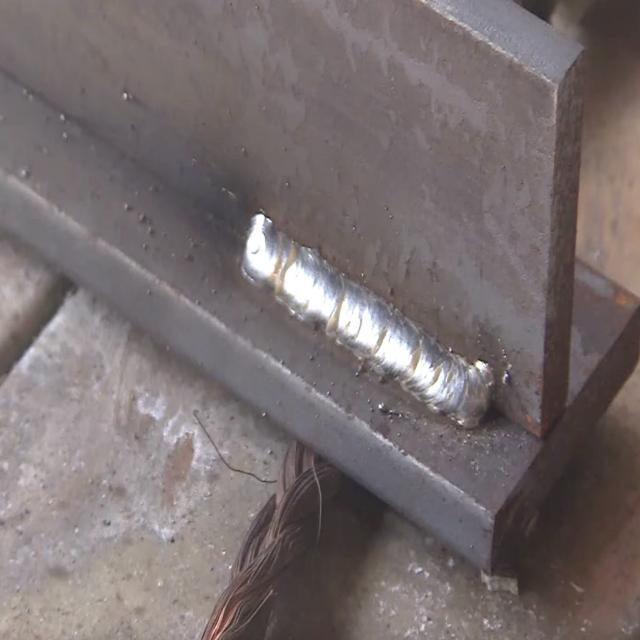Good Weld: (238, 220, 488, 430)
